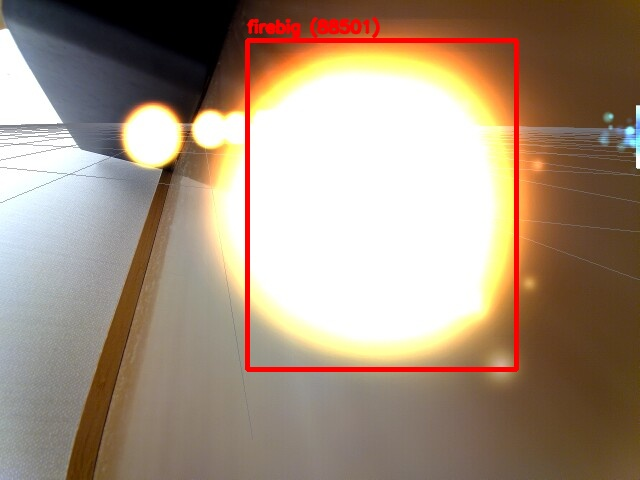firebig: (247, 40, 516, 369)
